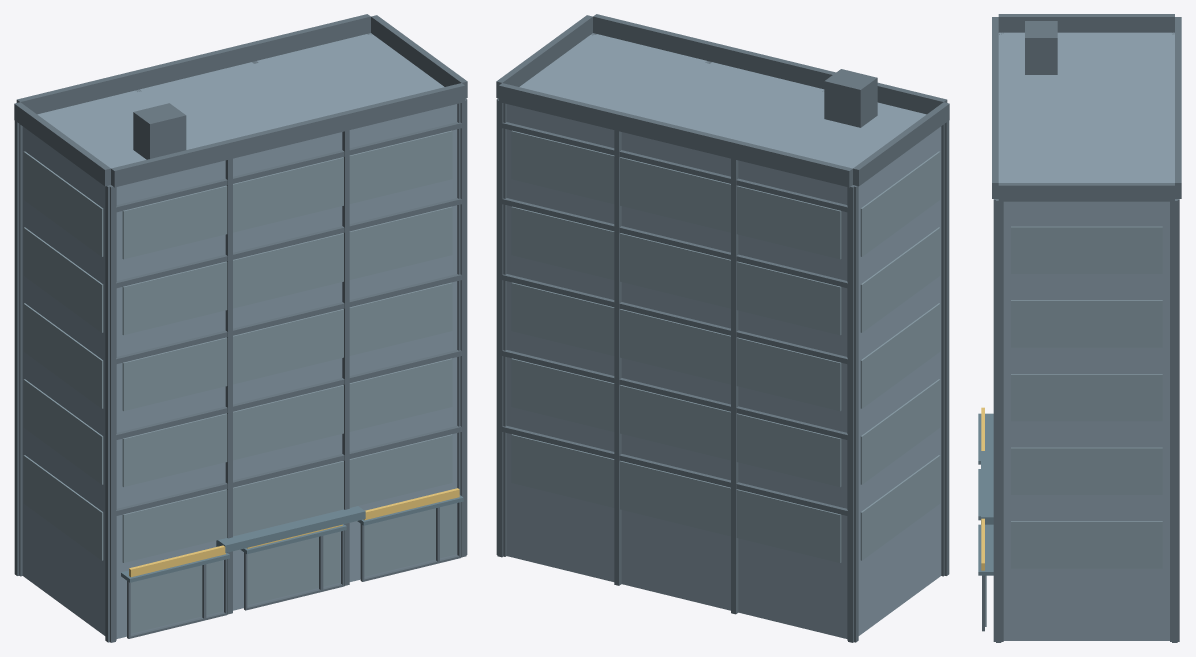
The model's file is commercial_2x1_b.glb.
The picture shows the model from 3 angles, left to right: view 1: azimuth 30°, elevation 25°; view 2: azimuth 150°, elevation 25°; view 3: azimuth 270°, elevation 25°; orthographic projection. The views are drawn at different scales.
Parts seen in each view (by area): view 1: commercial_2x1_b_0; view 2: commercial_2x1_b_0; view 3: commercial_2x1_b_0.
Boxes of the visible parts, x1,y1,x2,y2 form: commercial_2x1_b_0: (14,14,467,642); commercial_2x1_b_0: (496,14,949,642); commercial_2x1_b_0: (978,14,1181,642).
Size of the model in its own units: 15 by 19.5 by 7.5.
